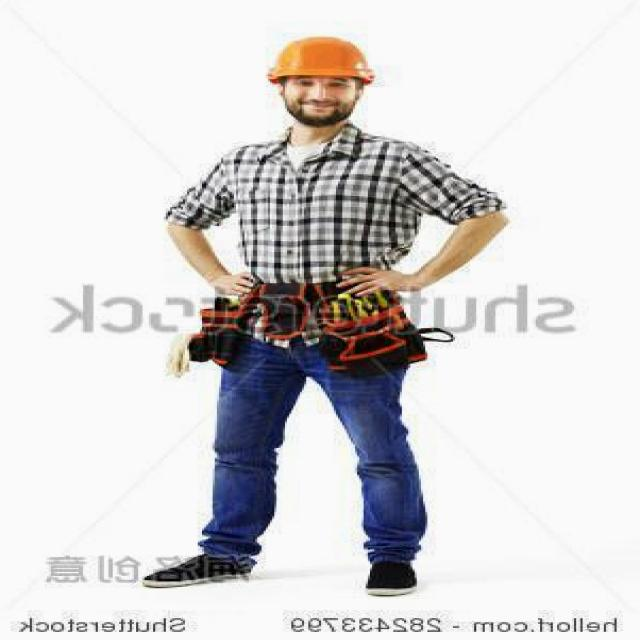face_nomask: (279, 72, 370, 140)
hand_noglove: (338, 263, 413, 313), (212, 263, 266, 317)
head_helmet: (266, 34, 383, 82)
person: (150, 10, 488, 589)
shoes: (130, 548, 266, 592), (352, 549, 428, 600)
